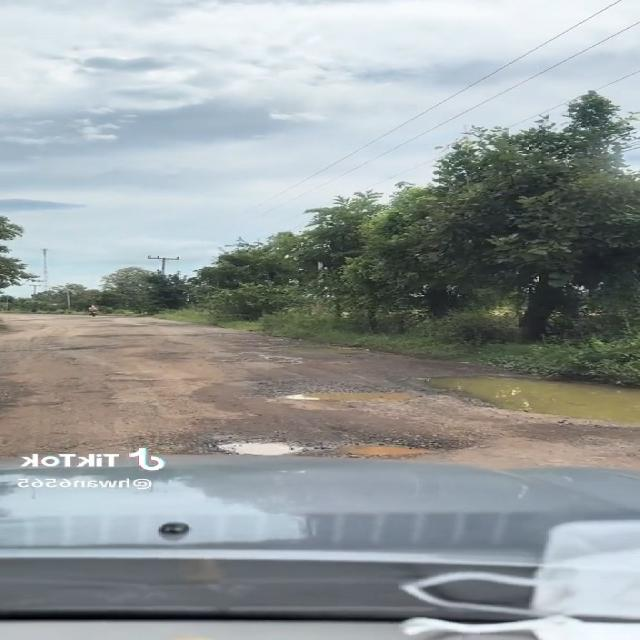Poth-hole: (66, 337, 190, 424)
